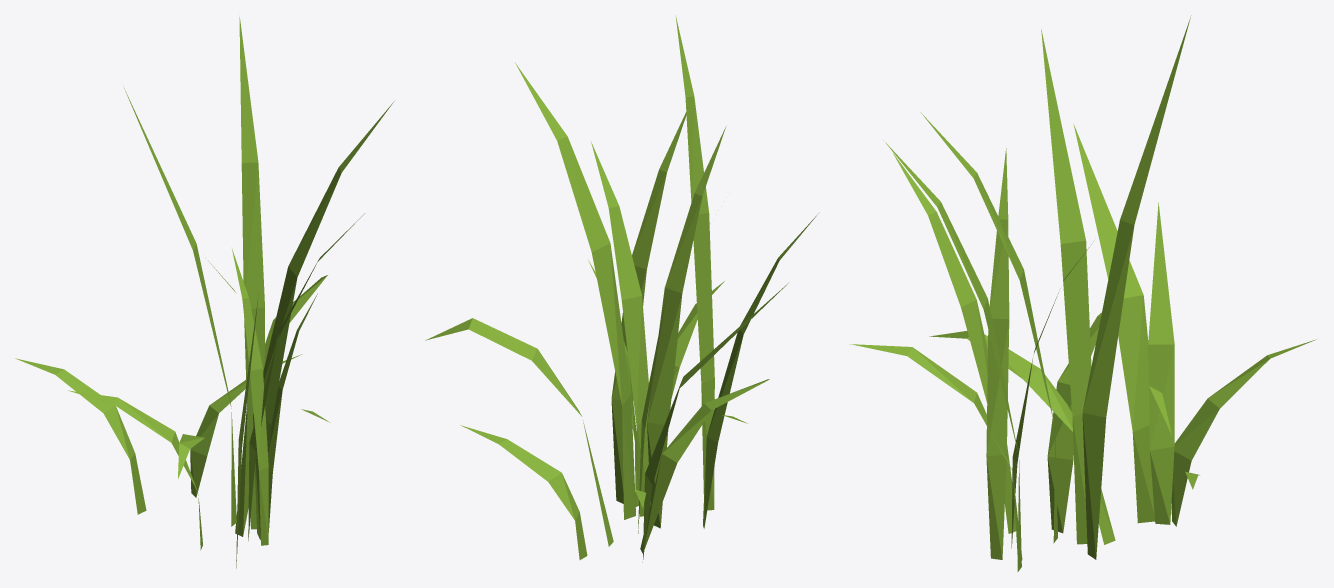
Rendered from grass-middle-a.gltf.
3 views of the same model, side by side, from view 1: azimuth 30°, elevation 25°; view 2: azimuth 150°, elevation 25°; view 3: azimuth 270°, elevation 25° (orthographic). The views are drawn at different scales.
Parts seen in each view (by area): view 1: grass-middle-a; view 2: grass-middle-a; view 3: grass-middle-a.
Boxes of the visible parts, box(x1,y1,x2,y2) form: grass-middle-a: box(15, 17, 393, 568); grass-middle-a: box(425, 15, 819, 562); grass-middle-a: box(850, 15, 1316, 571).
Bounding box in the file's own units: 0.0062 × 0.00873 × 0.00663.
